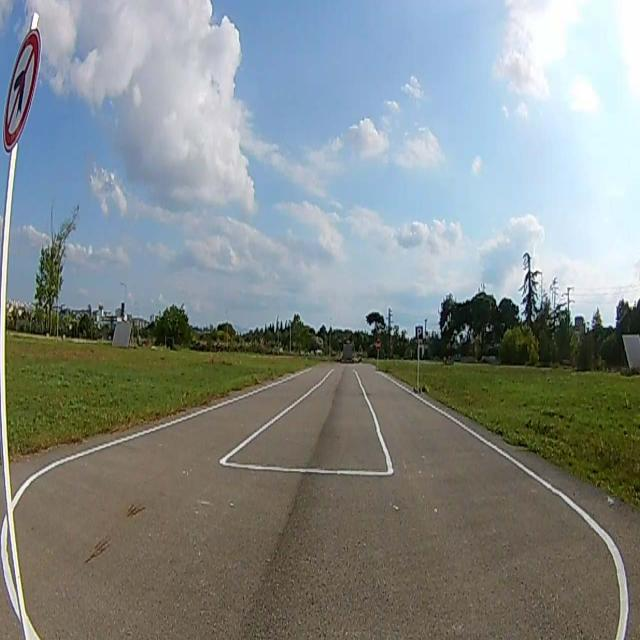soladonulmez: (3, 30, 42, 148)
